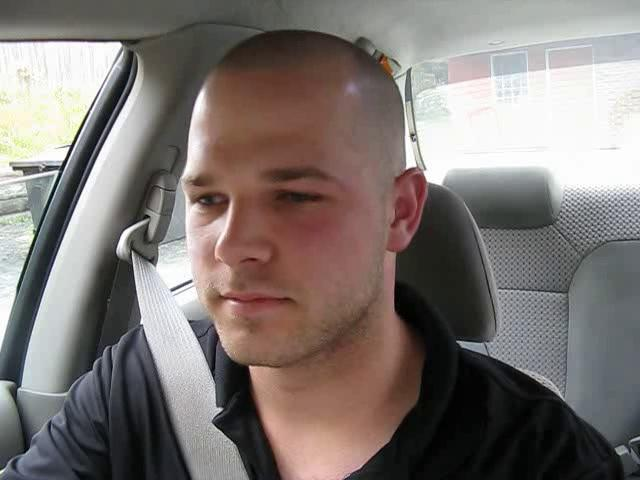close_eyeL: (175, 179, 239, 226)
close_eyeR: (258, 169, 345, 226)
no_yawn: (193, 274, 307, 333)
